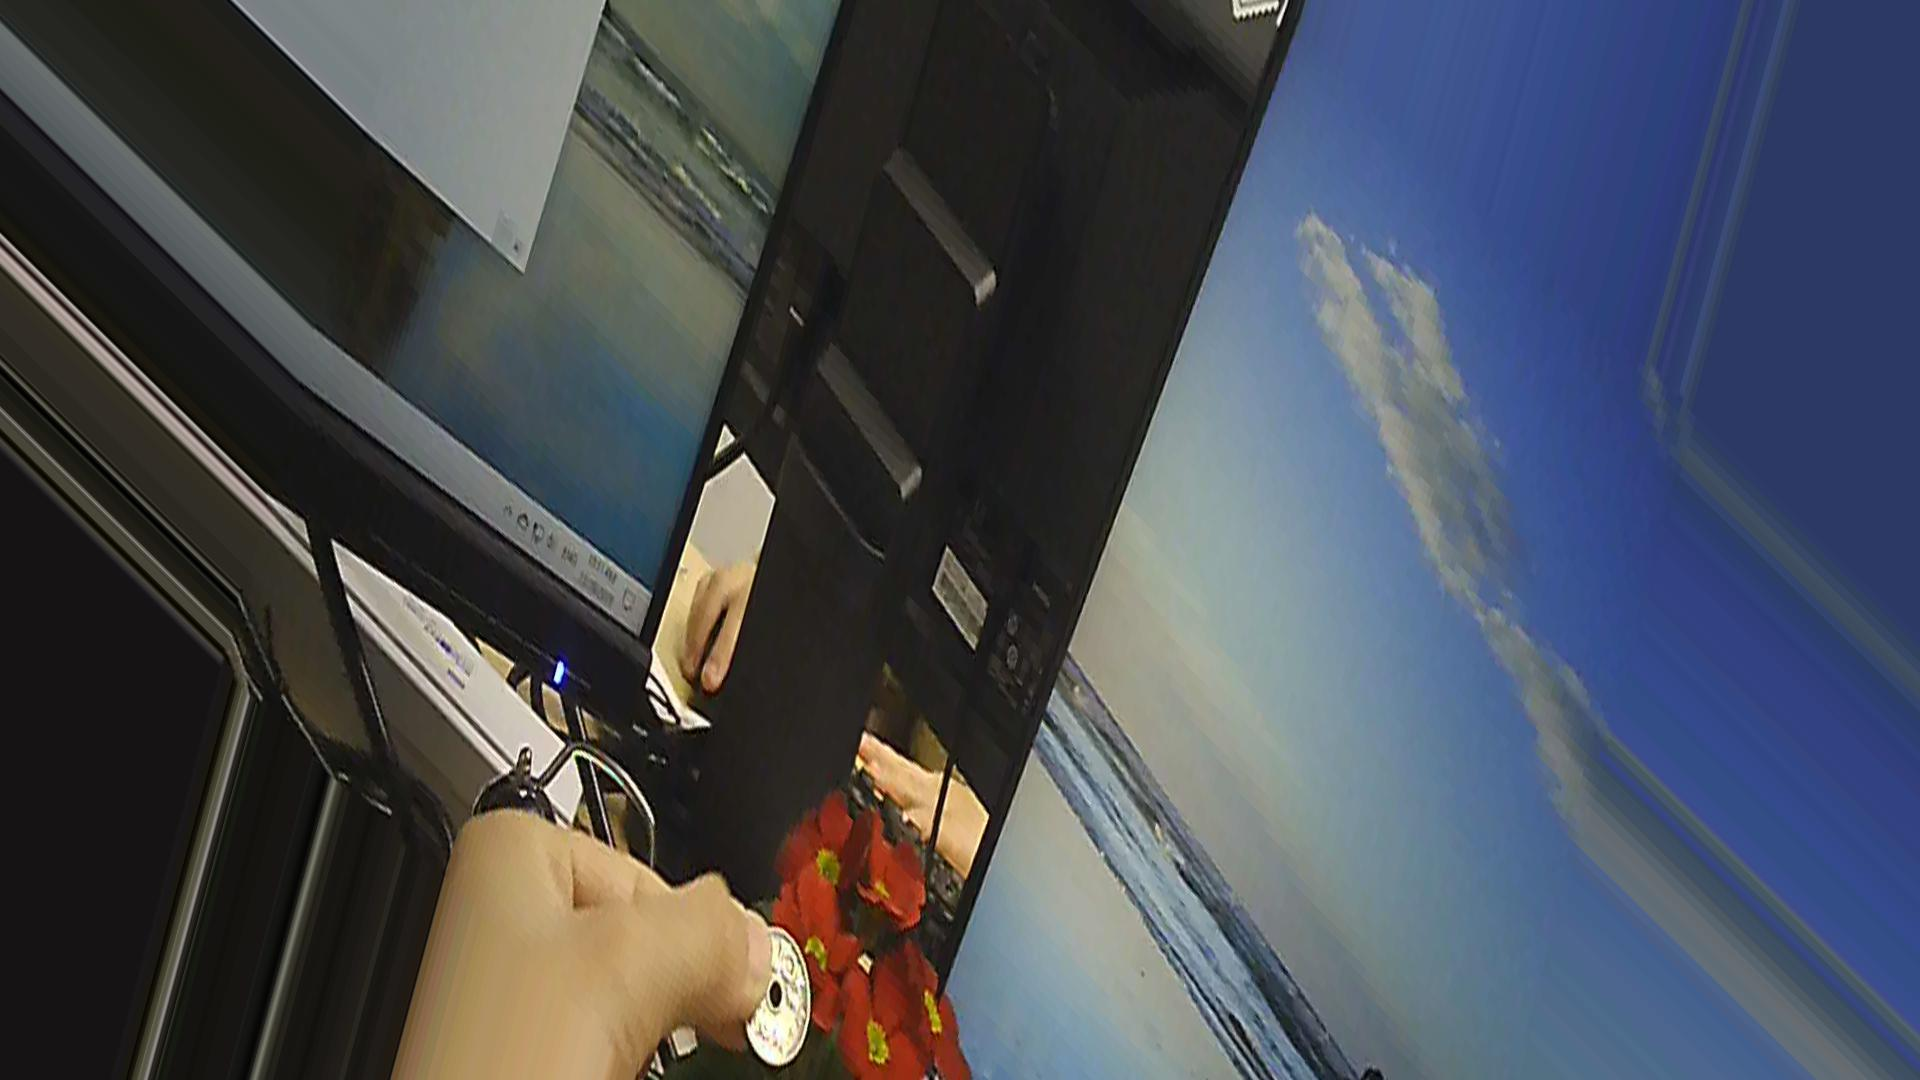50 Yen: (729, 907, 829, 1069)
